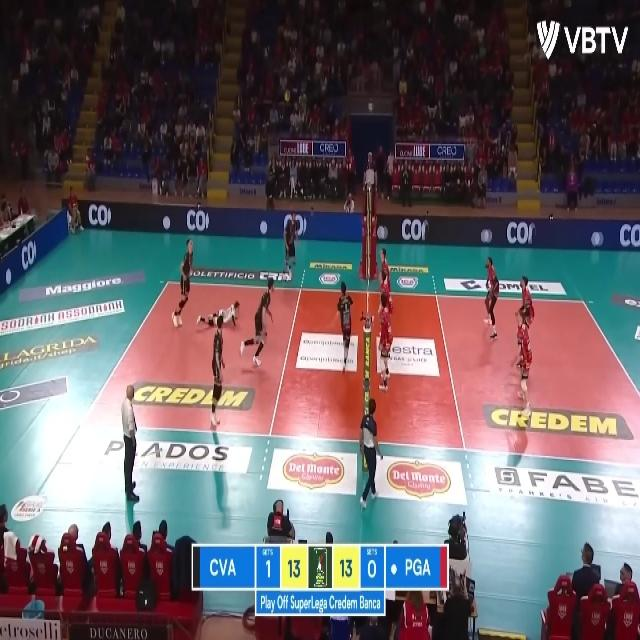volleyball court: (80, 279, 638, 465)
